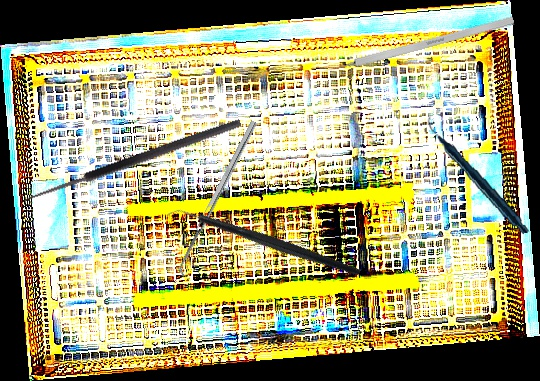Chopper: (163, 152, 363, 336)
Handpiece: (426, 107, 530, 243)
Hook Surgical: (21, 116, 246, 217), (316, 15, 515, 78)
Spatula Surgical: (174, 120, 263, 278)
